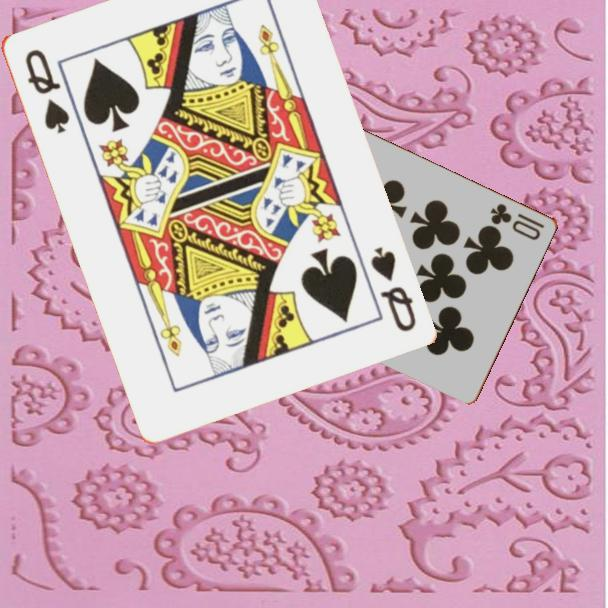c10: (487, 199, 548, 243)
s12: (366, 242, 419, 335), (21, 45, 72, 137)
